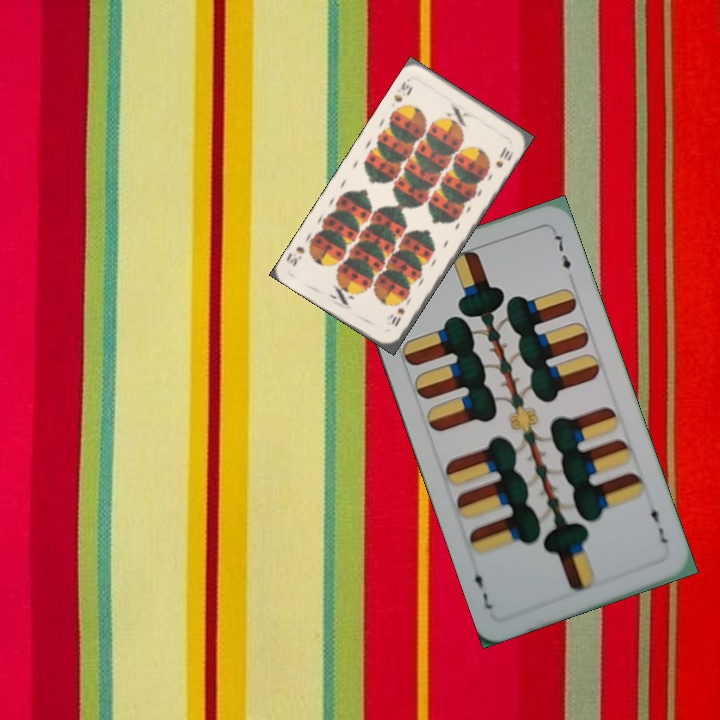E7: (646, 498, 671, 547)
S10: (390, 77, 415, 105), (387, 303, 407, 329)
